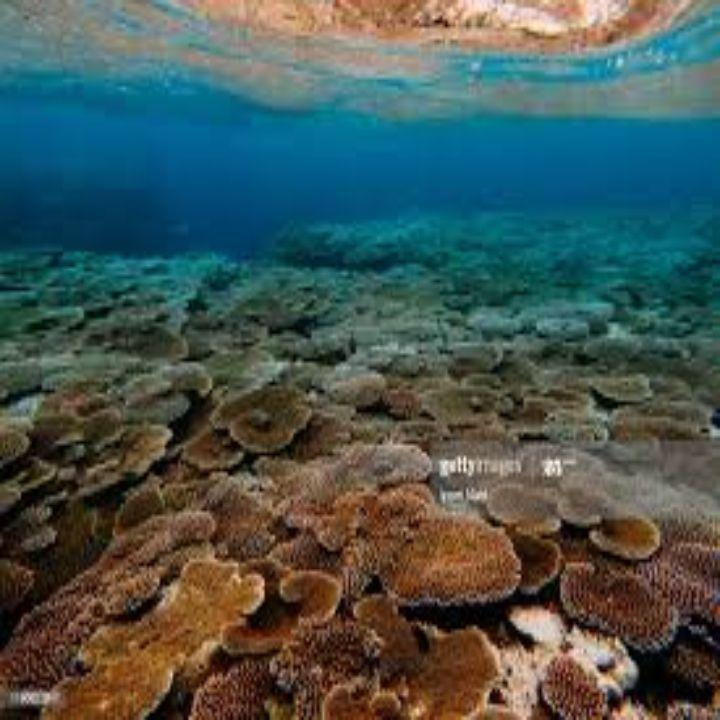Healthy Coral: (9, 353, 708, 698)
